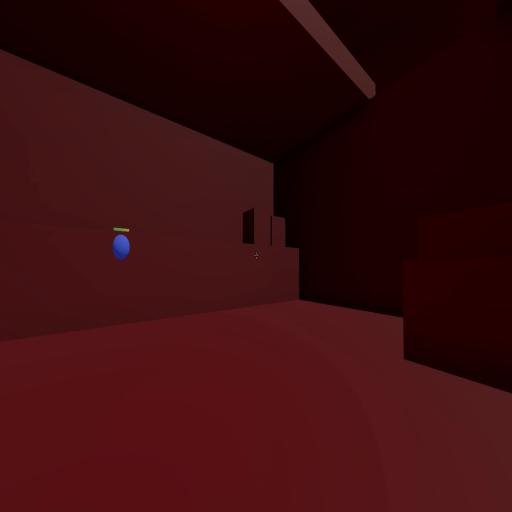Crosshair: (254, 252, 258, 260)
Target: (114, 235, 129, 259)
